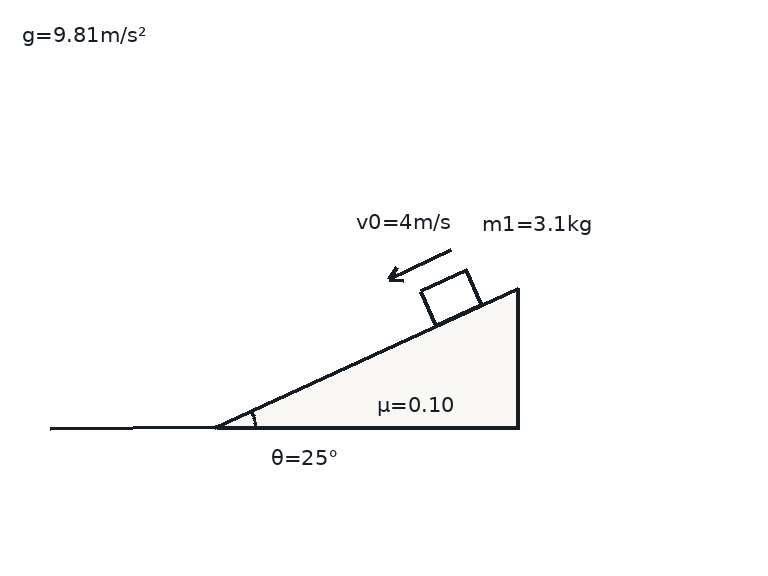block: (417, 268, 483, 327)
ramp: (213, 285, 520, 430)
